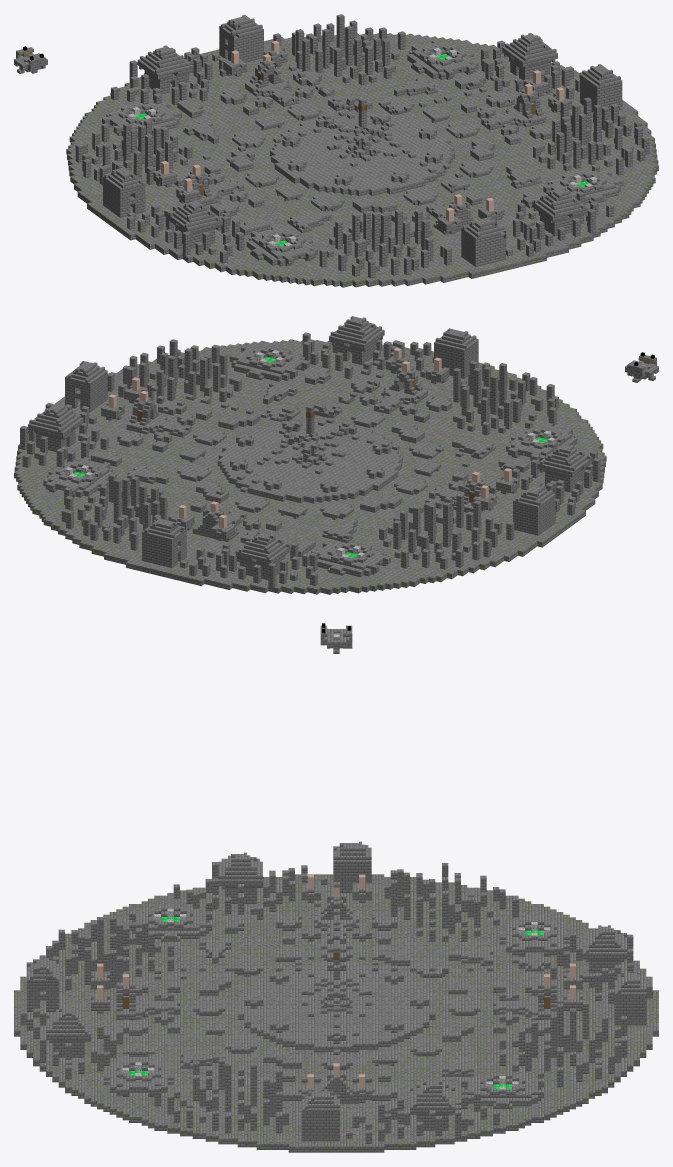
Rendered from minecraft.obj.
3 views of the same model, one above another, from view 1: azimuth 30°, elevation 25°; view 2: azimuth 150°, elevation 25°; view 3: azimuth 270°, elevation 25° (orthographic). The views are drawn at different scales.
Bounding box in the file's own units: 119 × 37.52 × 101.
